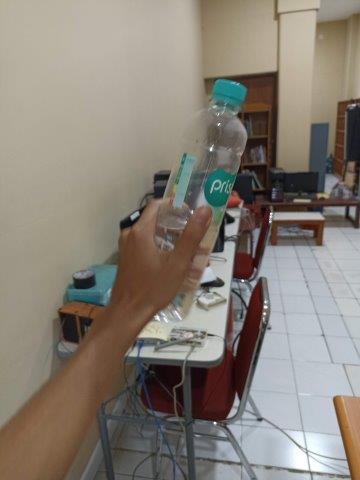botolplastik: (155, 78, 248, 322)
